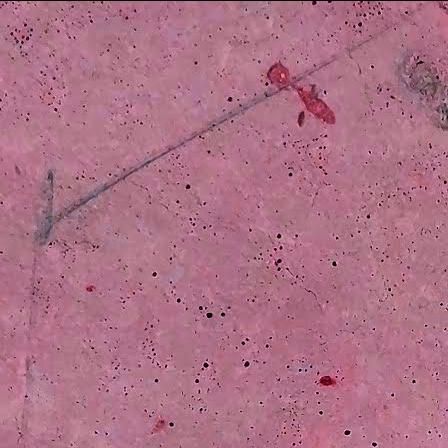crack: (251, 227, 331, 320)
